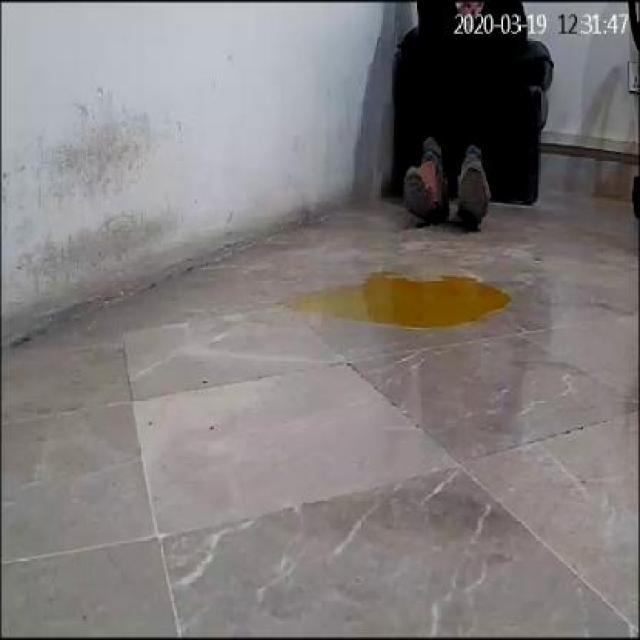spill: (288, 264, 514, 328)
